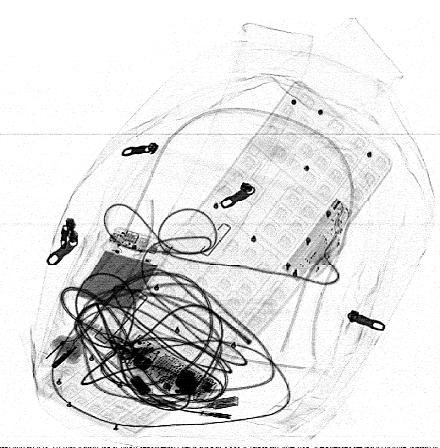Powerbank: (70, 227, 170, 319)
